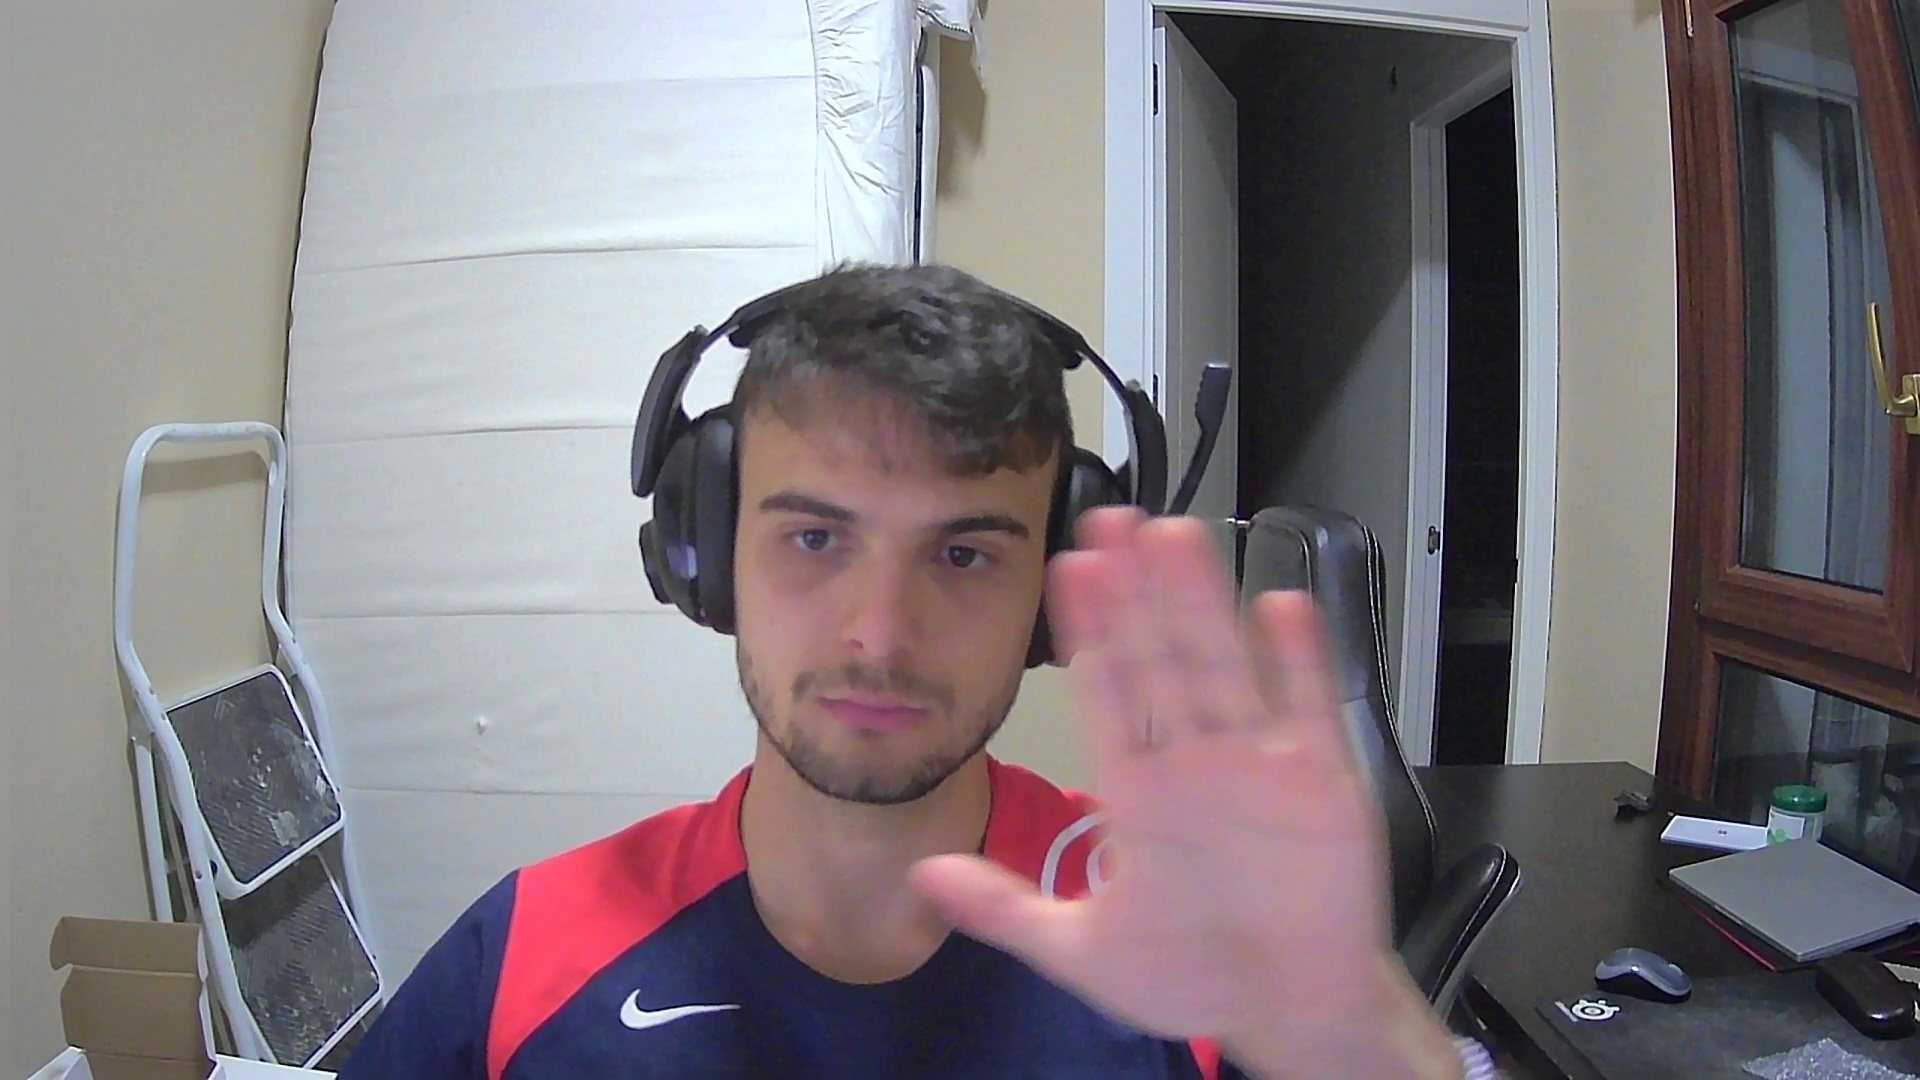Palm: (899, 501, 1400, 1036)
